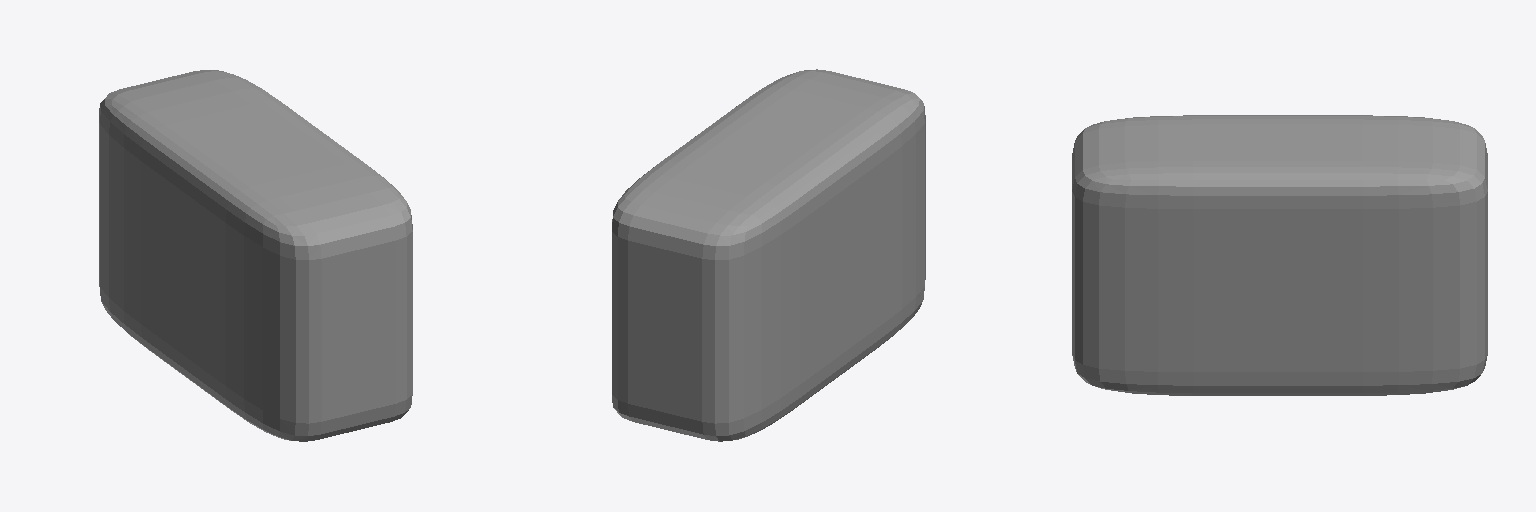
File: rail_bumper.obj
3 views of the same model, side by side, from view 1: azimuth 30°, elevation 25°; view 2: azimuth 150°, elevation 25°; view 3: azimuth 270°, elevation 25° (orthographic).
Visible parts, largest first — view 1: Rail_Bumper_Cube.002; view 2: Rail_Bumper_Cube.002; view 3: Rail_Bumper_Cube.002.
Part boxes in pixels (x1,y1,x2,y2): Rail_Bumper_Cube.002: (99, 70, 412, 441); Rail_Bumper_Cube.002: (612, 69, 925, 441); Rail_Bumper_Cube.002: (1072, 115, 1487, 395).
Size of the model in its own units: 1.36 by 2 by 3.34.